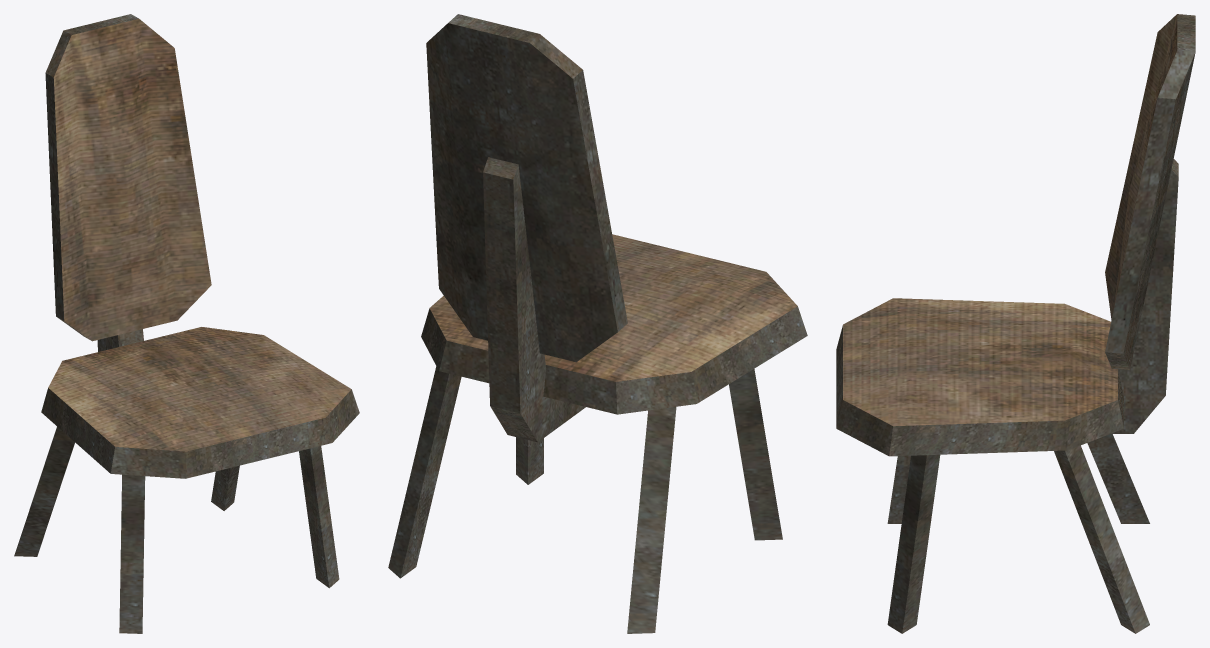
Rendered from frn_tato_chair_cafe_s02_l1.fbx.
3 views of the same model, side by side, from view 1: azimuth 30°, elevation 25°; view 2: azimuth 150°, elevation 25°; view 3: azimuth 270°, elevation 25° (orthographic). The views are drawn at different scales.
Visible parts, largest first — view 1: mesh_node; view 2: mesh_node; view 3: mesh_node.
Boxes of the visible parts, x1=… form: mesh_node: x1=14, y1=14, x2=359, y2=633; mesh_node: x1=388, y1=14, x2=807, y2=633; mesh_node: x1=836, y1=14, x2=1195, y2=633.
Bounding box in the file's own units: 0.5451 × 1.02 × 0.6135.
